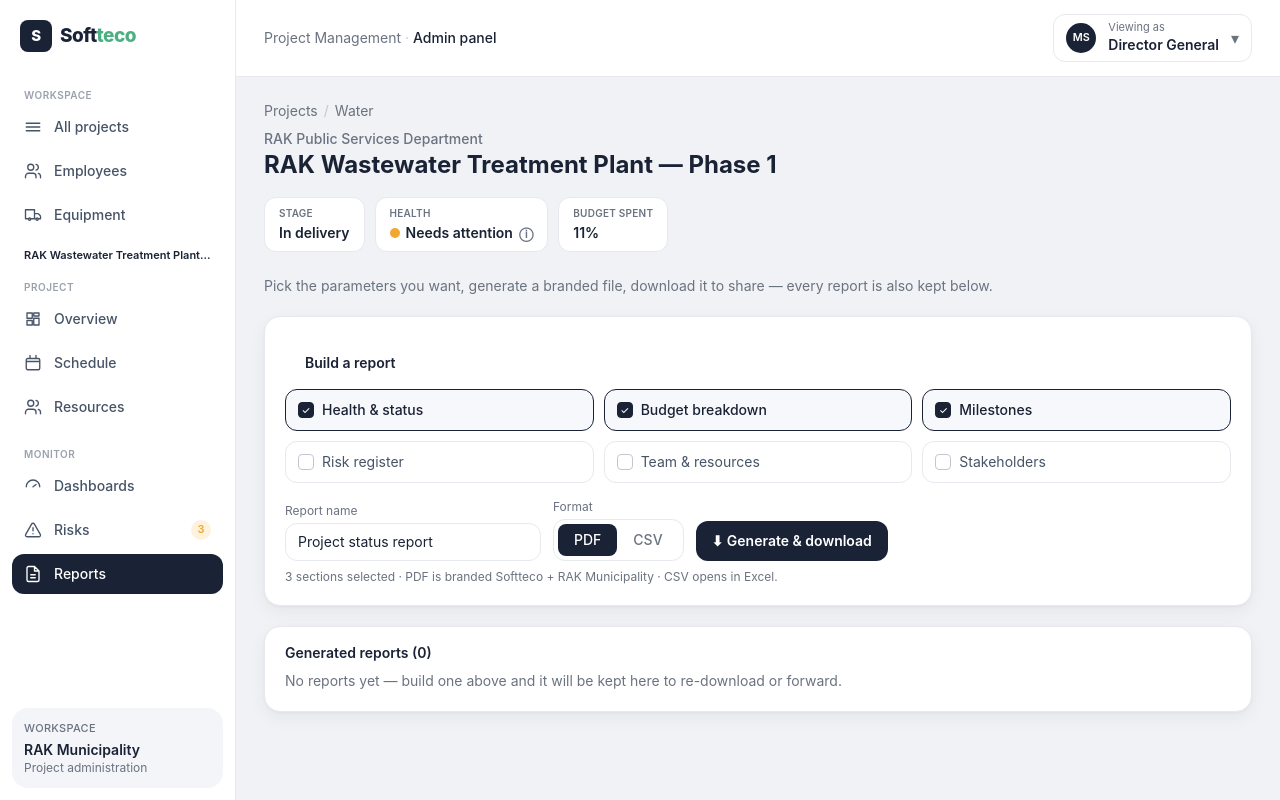
project pages render without crashing › Reports builder generates and stores a report
This screenshot has width=1280, height=800.
Expected: the heading "Build a report" is shown, [305,353,396,373]
Click the button "⬇ Generate & download" at (792, 541), box [696,521,888,561]
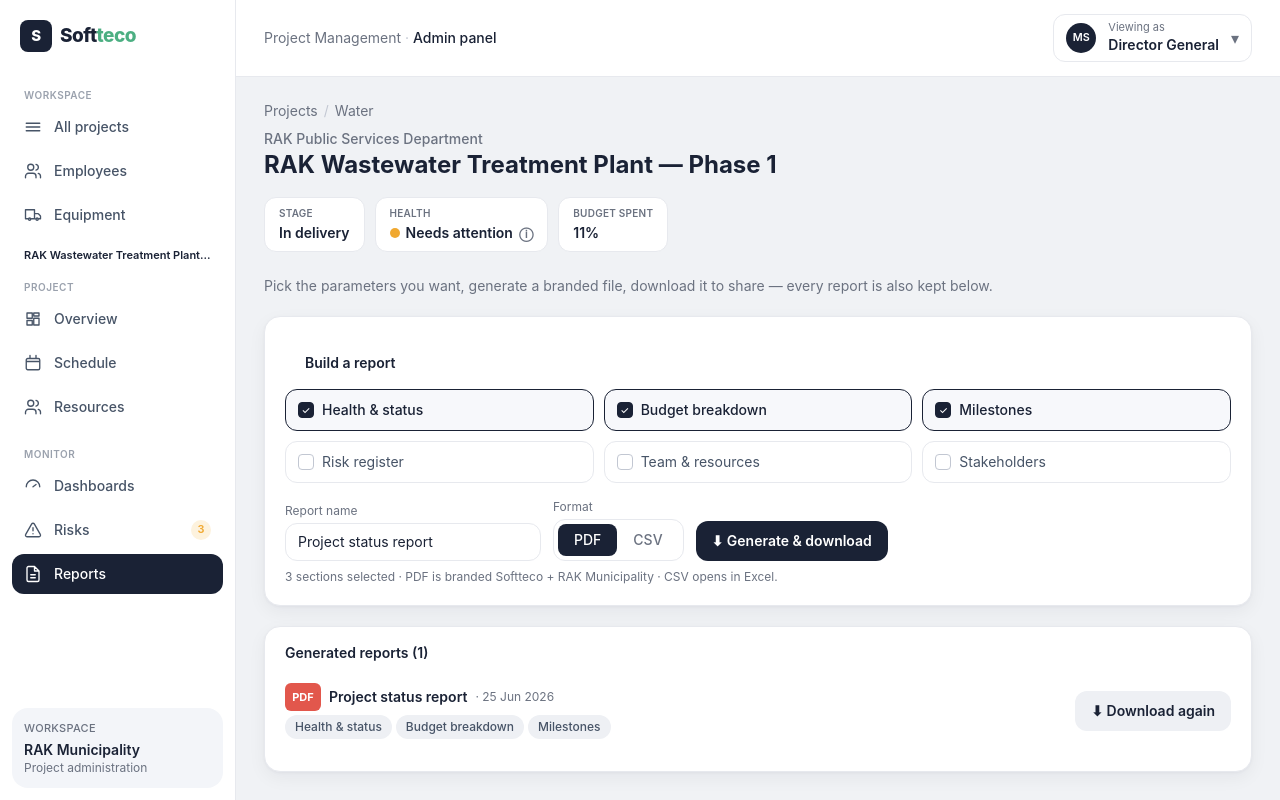
Expected: the heading "Generated reports (1)" is shown, [285,643,428,663]
